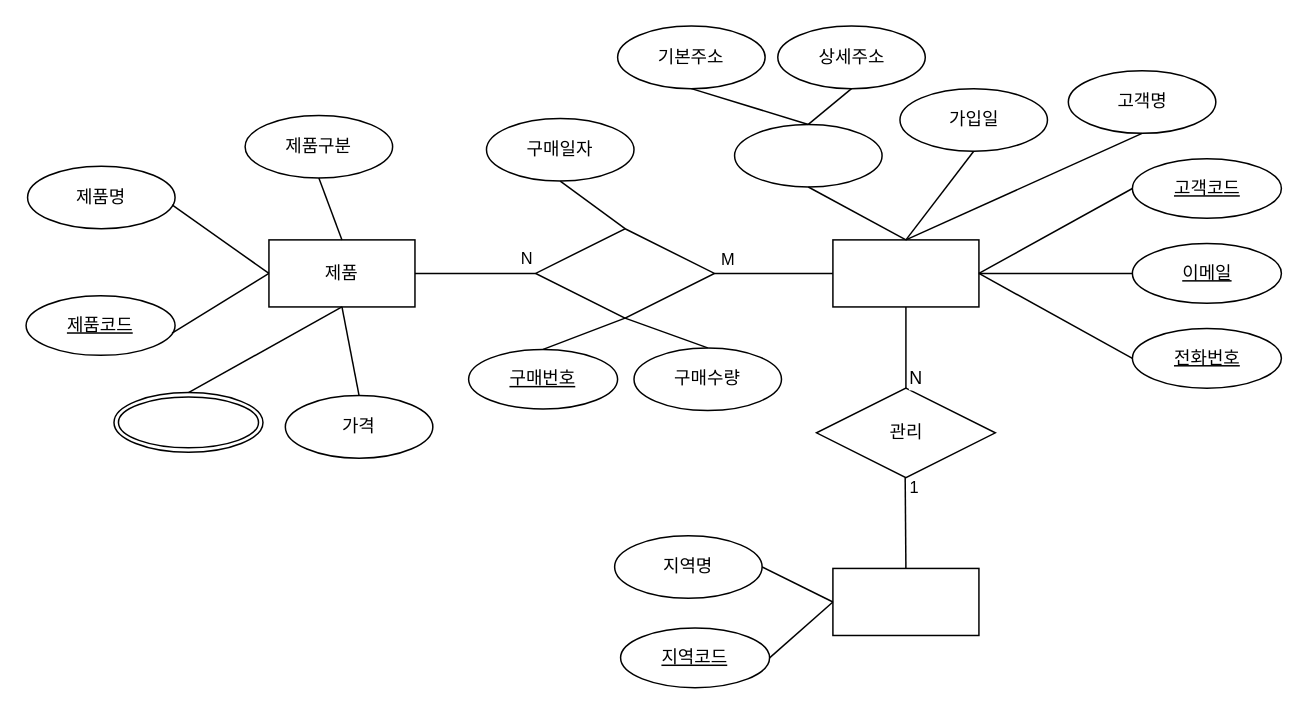
The diagram is 1308 pixels wide and 714 high, and some of its shapes have lost their labels. The shapes that lost their labels are listed below. From the top down, each one's centre as x and y in pixels, then its label:
[807,155]: 주소
[624,272]: 구매
[905,272]: 고객
[187,421]: 제품색상
[905,601]: 지역
